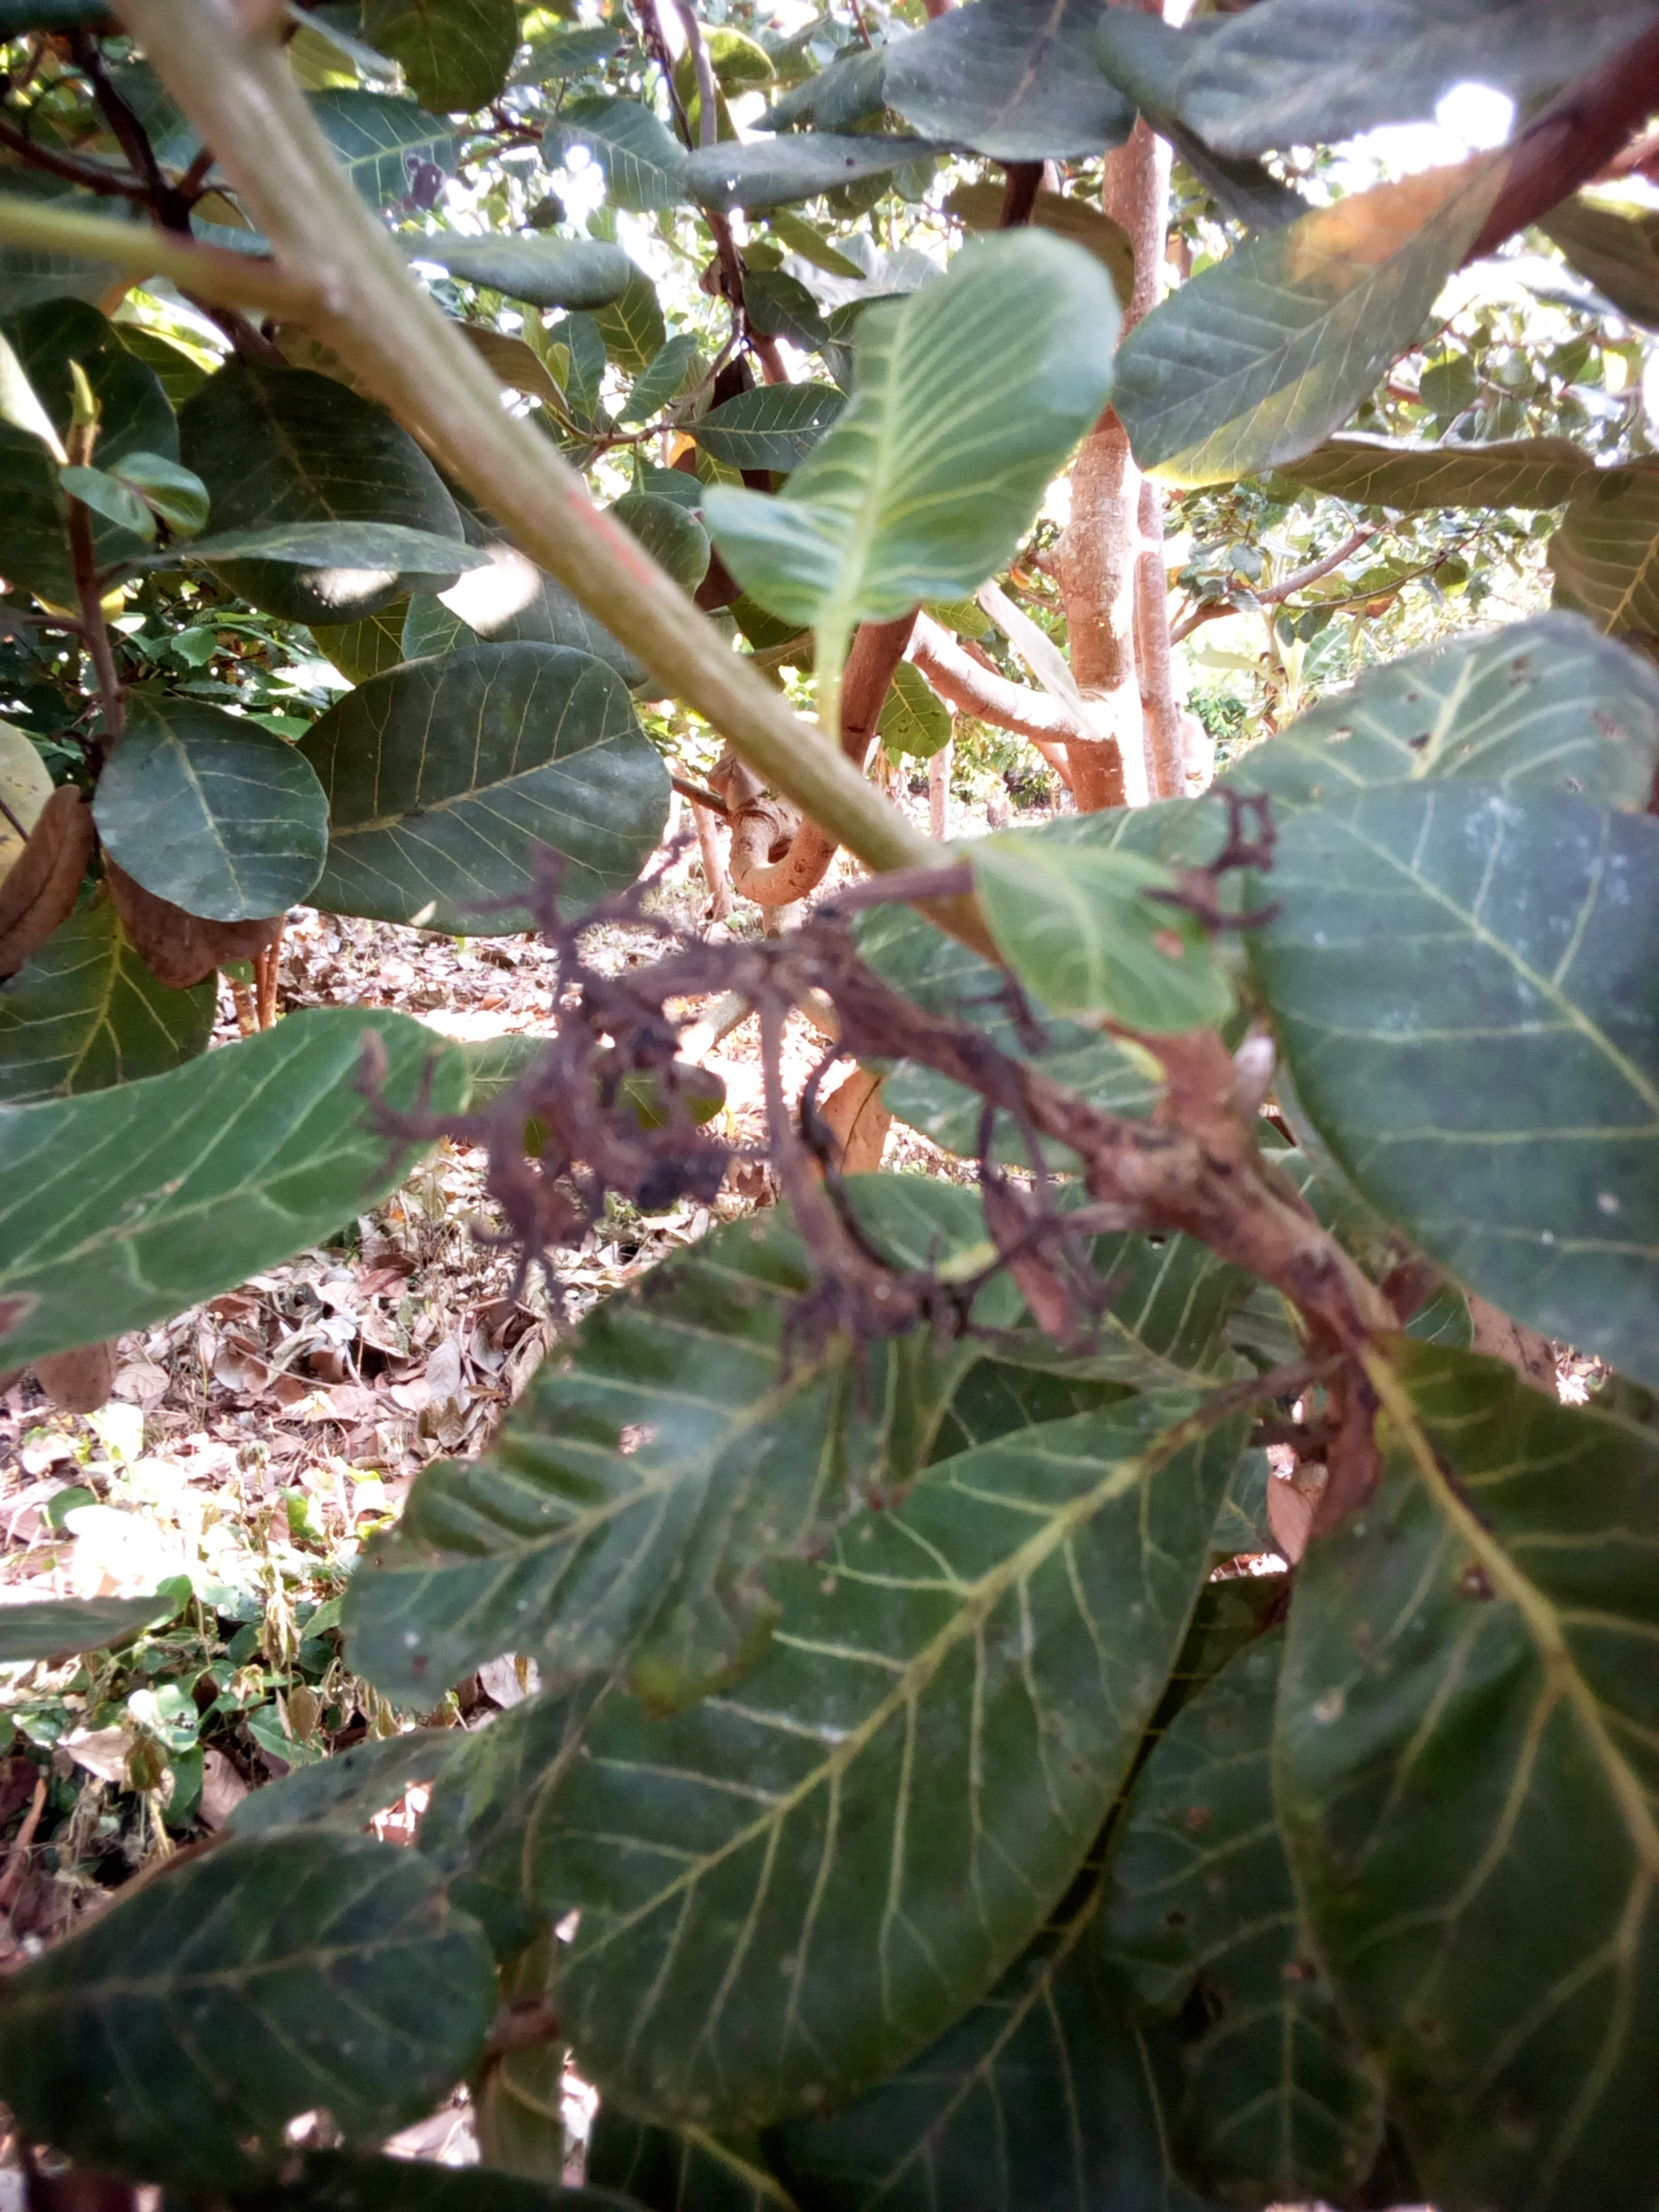Dessèchement des bourgeons: (359, 888, 1507, 1447)
